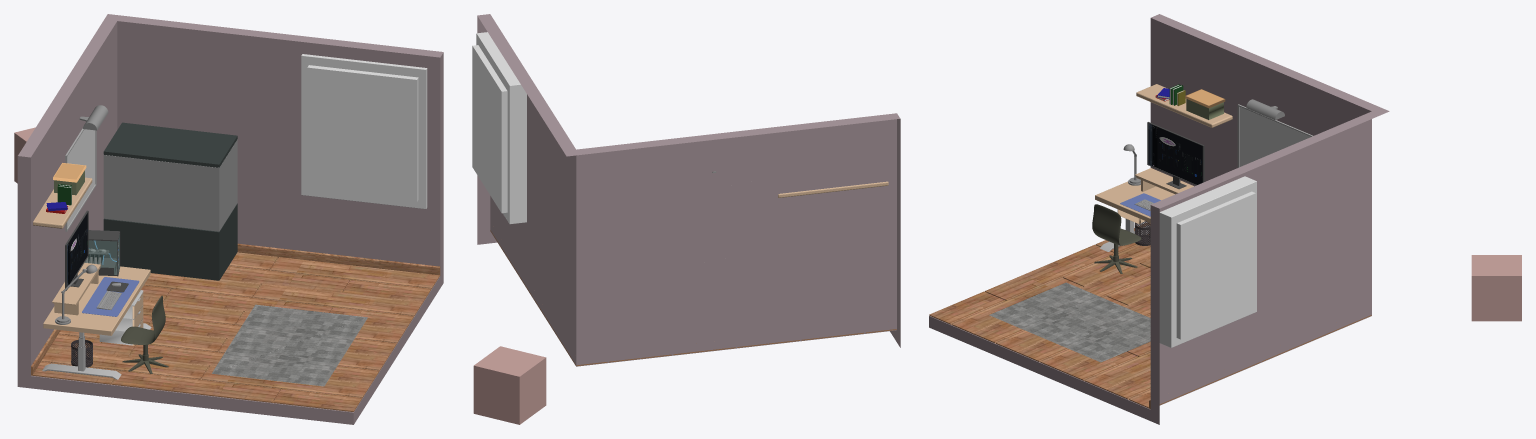
Rendered from threeJSroom(2.0.0).glb.
The picture shows the model from 3 angles, left to right: view 1: azimuth 30°, elevation 25°; view 2: azimuth 150°, elevation 25°; view 3: azimuth 270°, elevation 25°; orthographic projection. The views are drawn at different scales.
Visible parts, largest first — view 1: floor, aquarium, window frame, table, computer, Shelves, Light, screen, chair, trashbin, Cube; view 2: floor, window frame, Cube, Shelves; view 3: floor, window frame, Cube, Light, screen, table, Shelves, chair, trashbin, computer.
Boxes of the visible parts, x1,y1,x2,y2 form: floor: (17, 14, 443, 424); aquarium: (103, 122, 237, 280); window frame: (301, 54, 427, 209); table: (42, 262, 151, 379); computer: (55, 230, 139, 324); Shelves: (33, 163, 92, 228); Light: (65, 105, 108, 231); screen: (65, 210, 88, 290); chair: (121, 295, 165, 344); trashbin: (71, 339, 168, 373); Cube: (14, 127, 35, 183); floor: (477, 14, 900, 366); window frame: (472, 32, 526, 224); Cube: (473, 346, 546, 424); Shelves: (778, 181, 888, 197); floor: (929, 14, 1389, 424); window frame: (1159, 176, 1256, 347); Cube: (1471, 255, 1521, 321); Light: (1237, 99, 1312, 167); screen: (1147, 122, 1204, 189); table: (1095, 168, 1193, 251); Shelves: (1136, 84, 1232, 127); chair: (1092, 204, 1141, 245); trashbin: (1094, 221, 1150, 273); computer: (1120, 144, 1215, 216).
Size of the model in its own units: 18.41 by 9.53 by 23.67.
42 materials, 4 textured.
